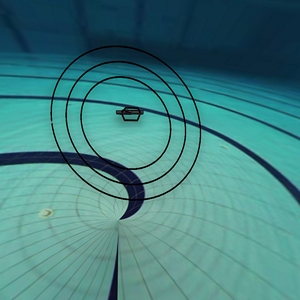circle: (43, 39, 216, 207)
submarine: (108, 95, 149, 128)
